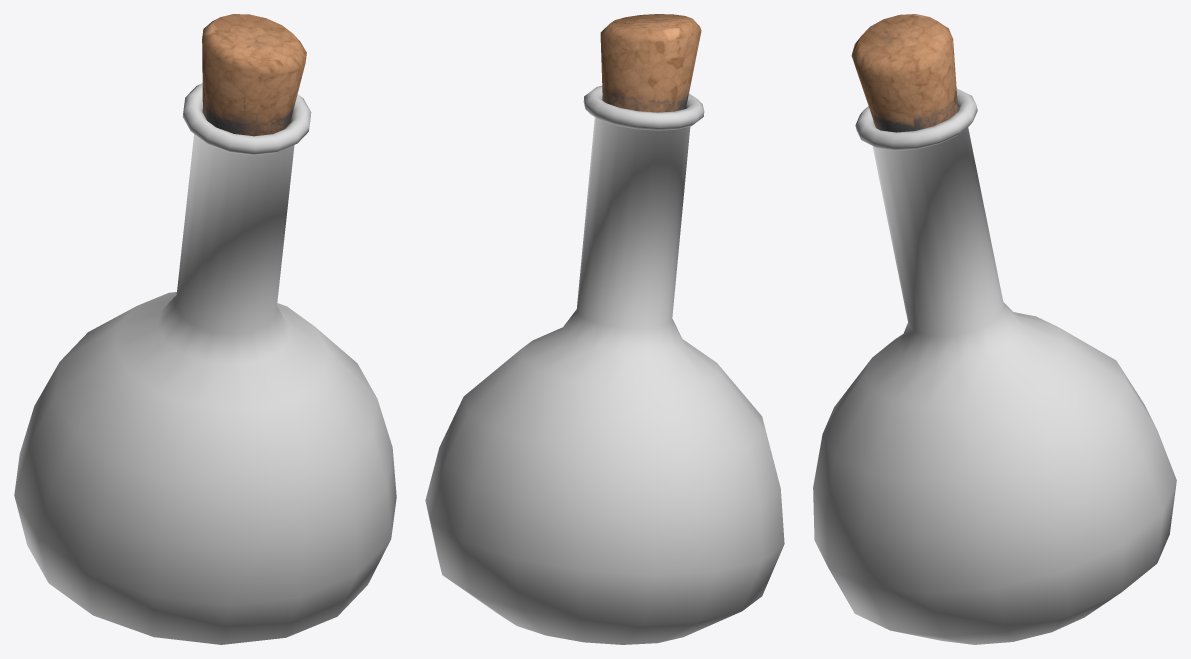
The model's file is Potion.fbx.
The picture shows the model from 3 angles, left to right: view 1: azimuth 30°, elevation 25°; view 2: azimuth 150°, elevation 25°; view 3: azimuth 270°, elevation 25°; orthographic projection. The views are drawn at different scales.
Parts seen in each view (by area): view 1: potion; view 2: potion; view 3: potion.
Part boxes in pixels (<box>): potion: <box>14,14,396,644</box>; potion: <box>425,14,784,644</box>; potion: <box>813,14,1176,644</box>.
Bounding box in the file's own units: 11.59 × 11.74 × 20.6.
